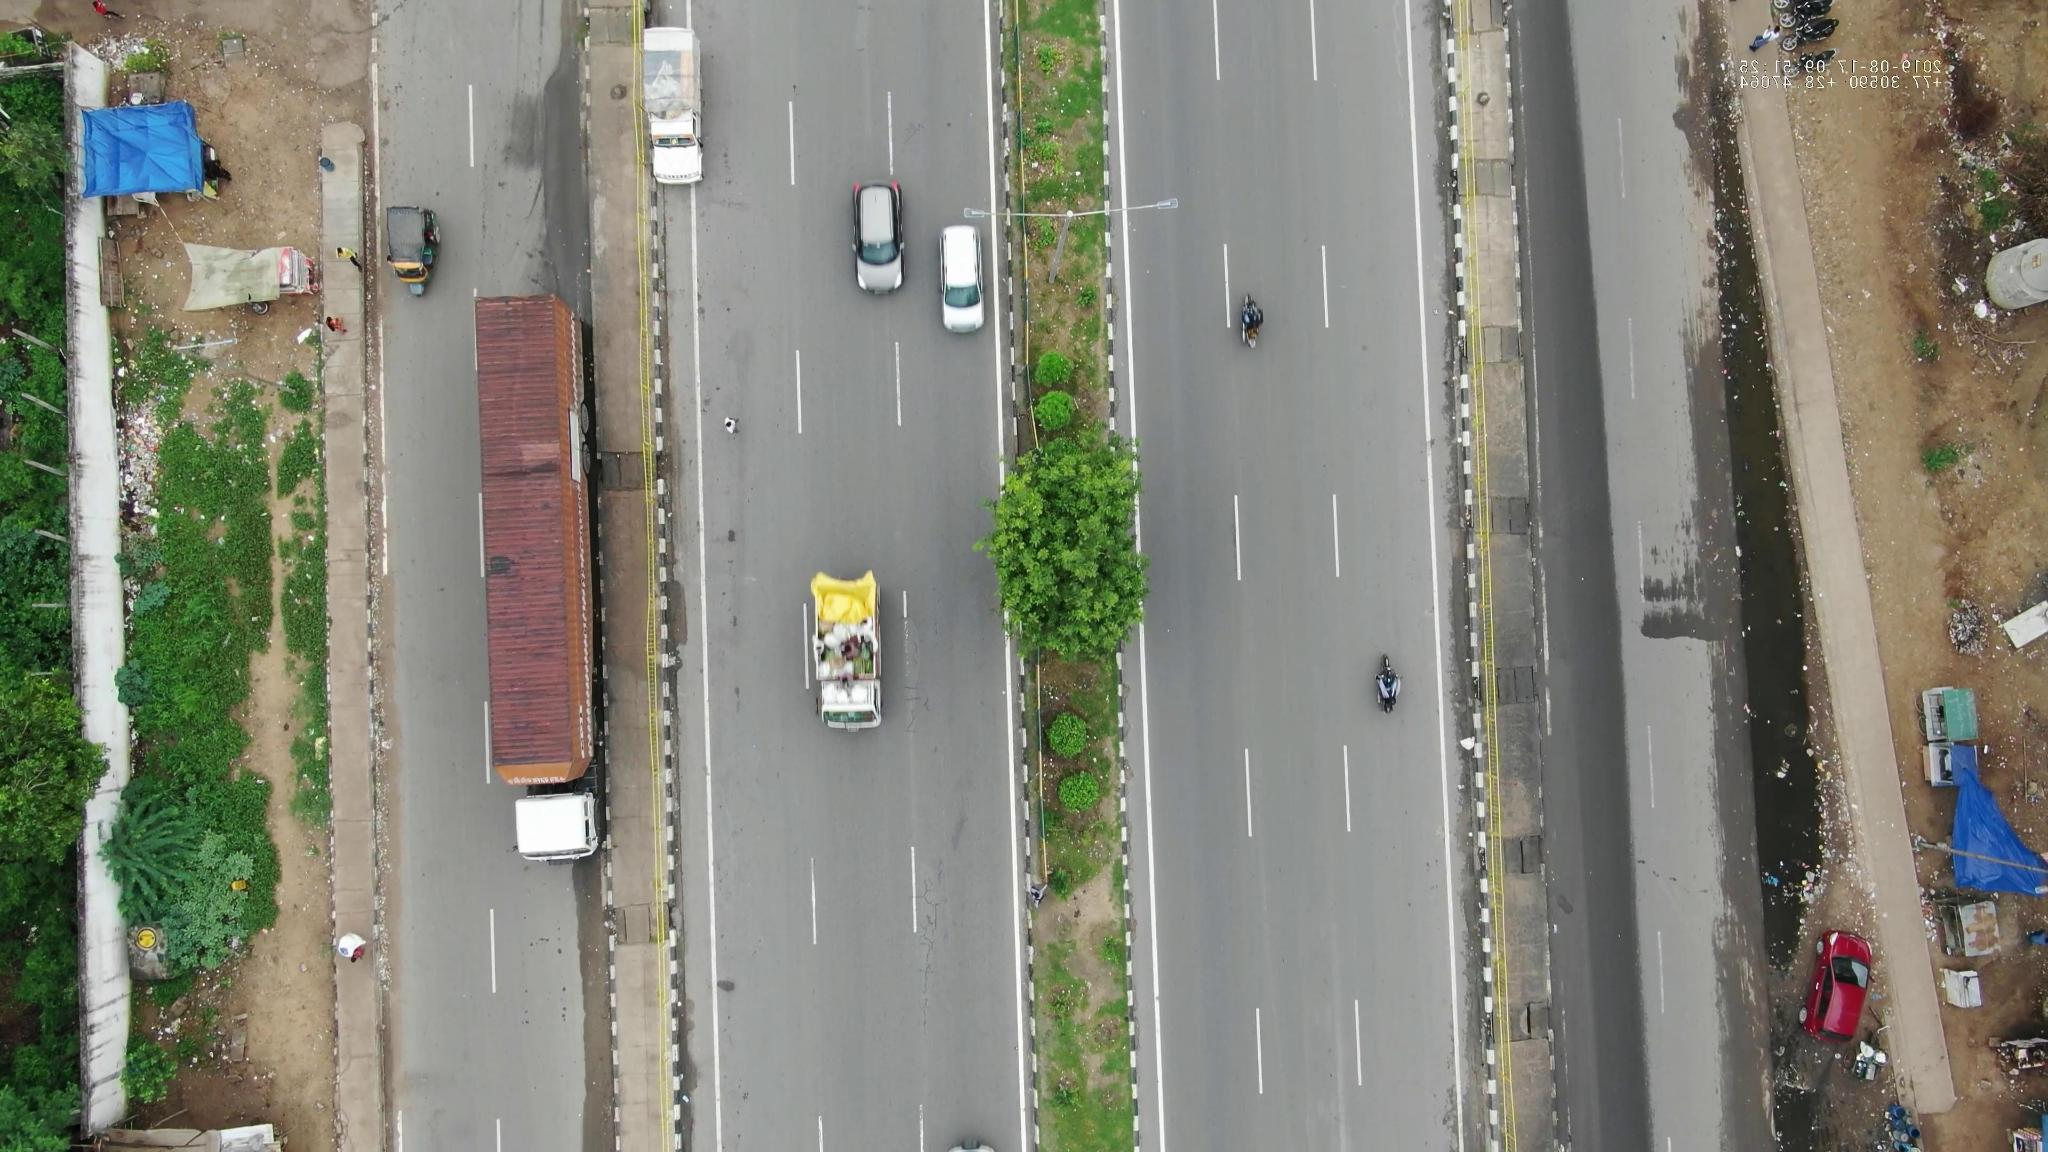Road_side_garbage: (108, 352, 201, 539)
Waterlogging: (1709, 724, 1823, 928), (1684, 48, 1778, 287), (1705, 291, 1796, 520), (1724, 519, 1822, 719)
